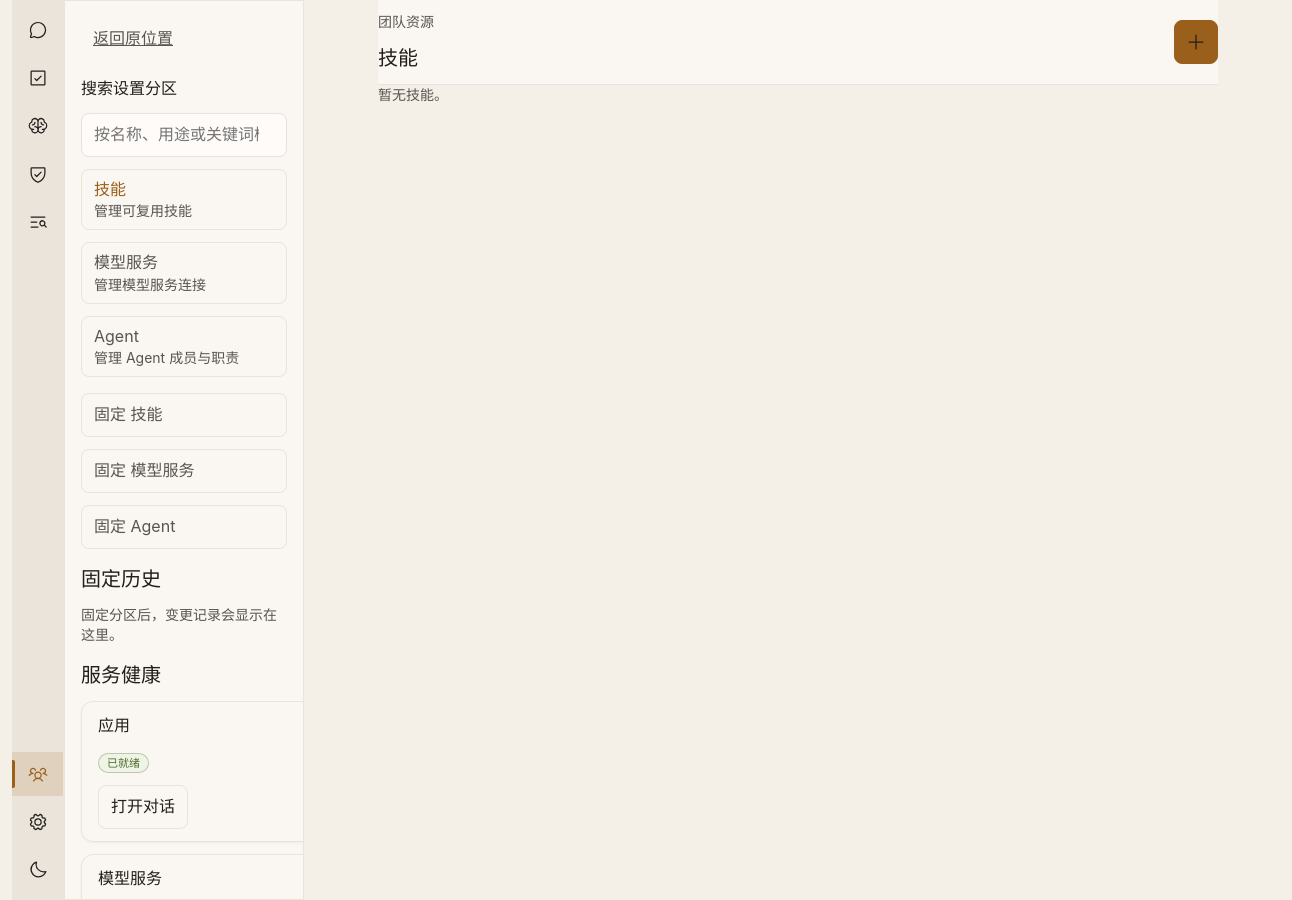
Test: settings pinning UI › pins immediately, updates ActivityBar, and renders readonly clock history
Click the button with aria-label "固定技能". click: point(184, 415)
box: [81,393,287,437]
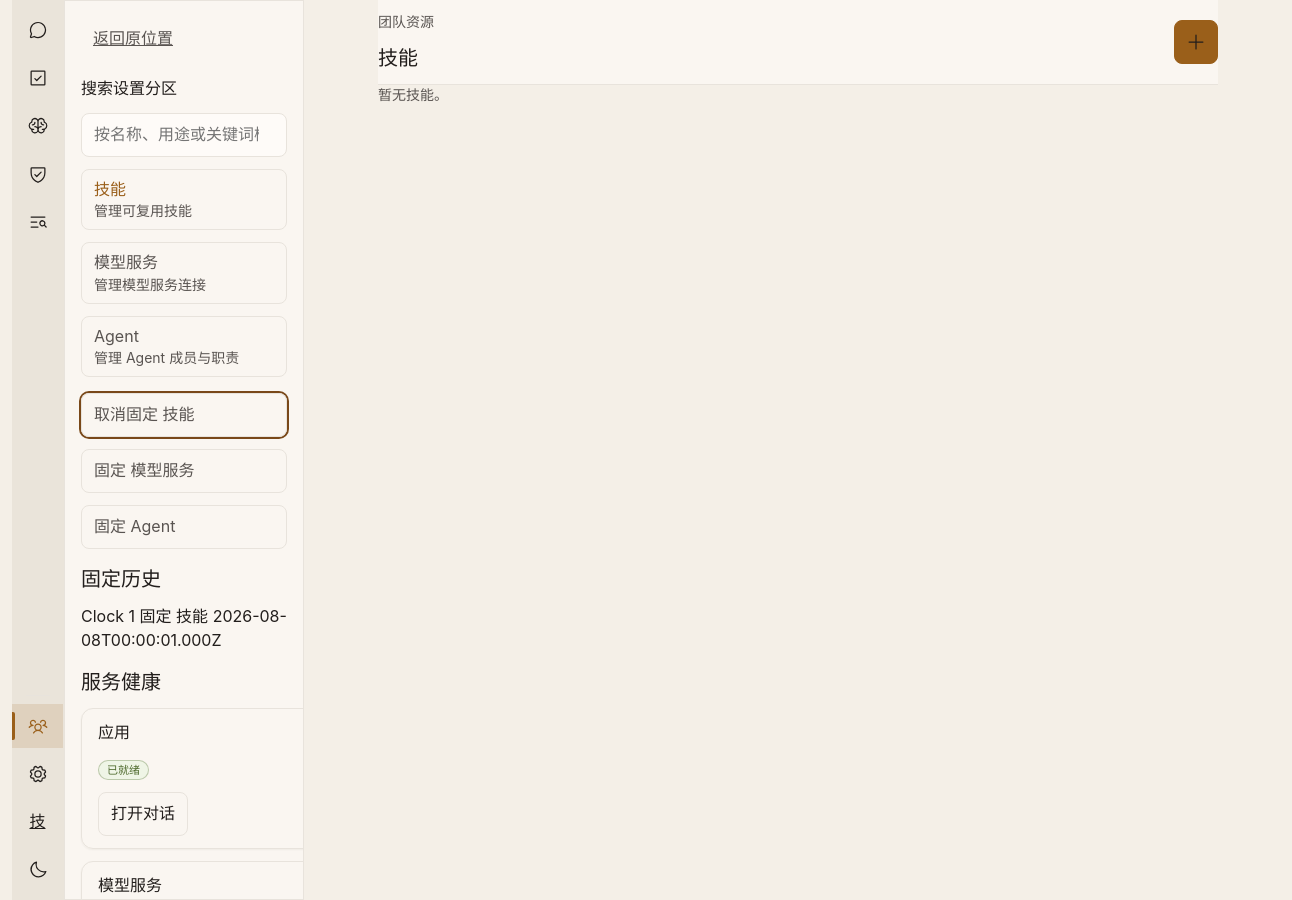
Now the link named "打开固定设置：技能" reads "技", box [12,800,63,844]
Now the list item "Clock 1 固定 技能 2026-08-08T00:00:01.000Z" is shown, box [81,605,287,652]
